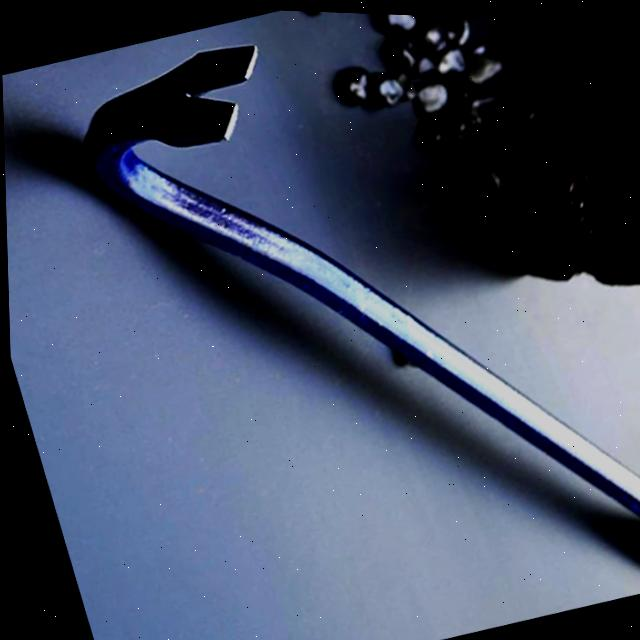crow bar: (81, 38, 640, 518)
